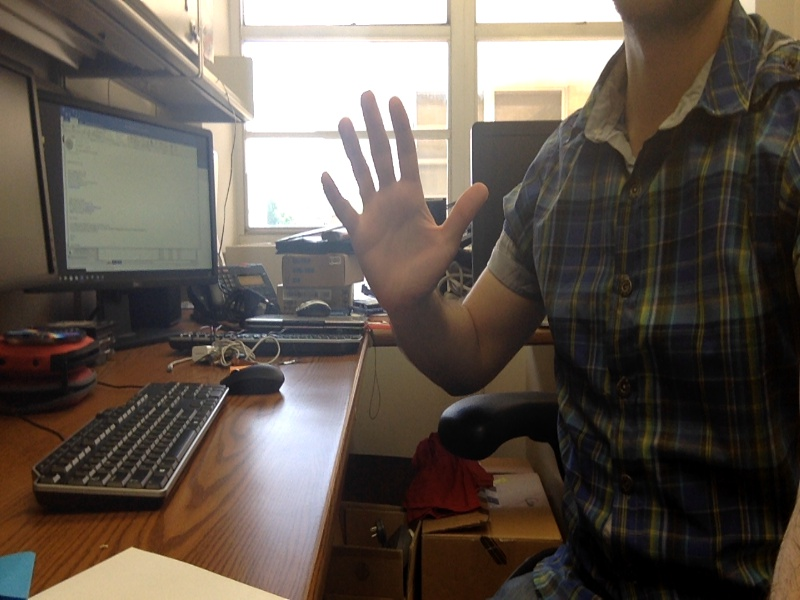5-hand: (319, 91, 489, 302)
